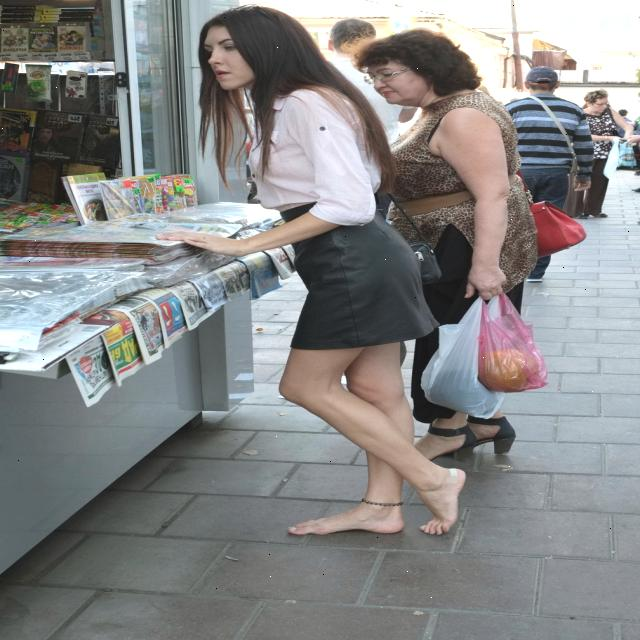No Safety Boots: (420, 468, 466, 535), (287, 509, 404, 535)
